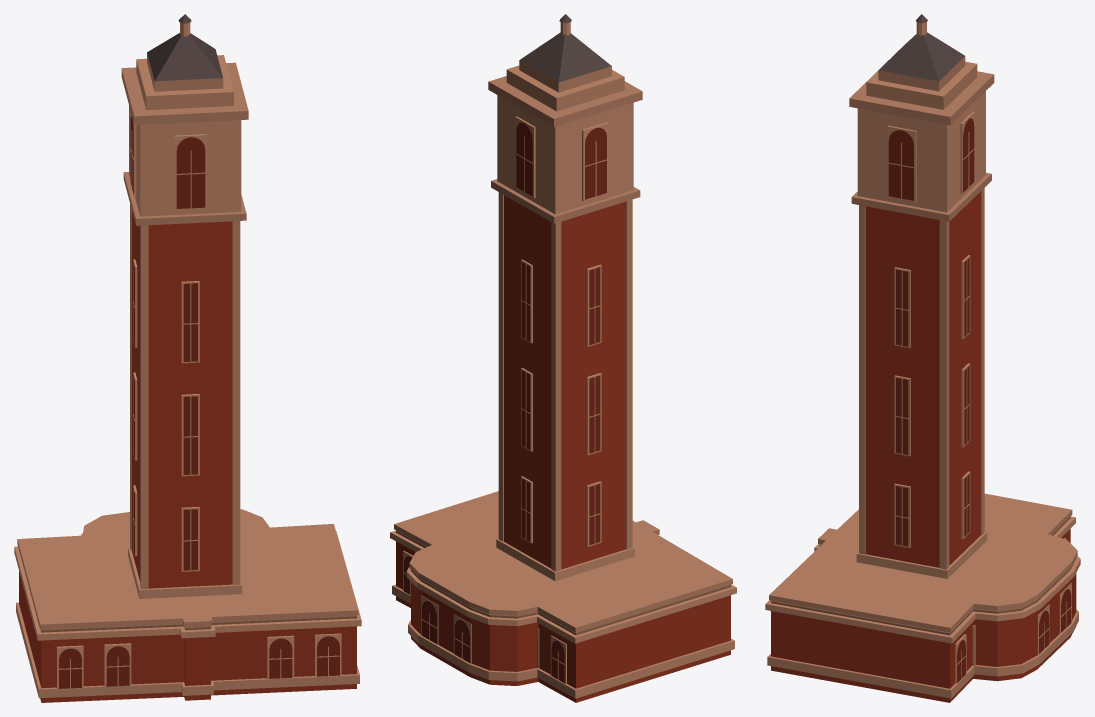
Rendered from virginia-war-memorial-carillon.glb.
3 renders of one model, left to right at view 1: azimuth 30°, elevation 25°; view 2: azimuth 150°, elevation 25°; view 3: azimuth 270°, elevation 25°, orthographic. The views are drawn at different scales.
Visible parts, largest first — view 1: base; view 2: base; view 3: base.
Boxes of the visible parts, x1,y1,x2,y2 form: base: (14,14,361,702); base: (390,14,736,702); base: (765,14,1080,702).
Bounding box in the file's own units: 39.76 × 73.65 × 34.31.
